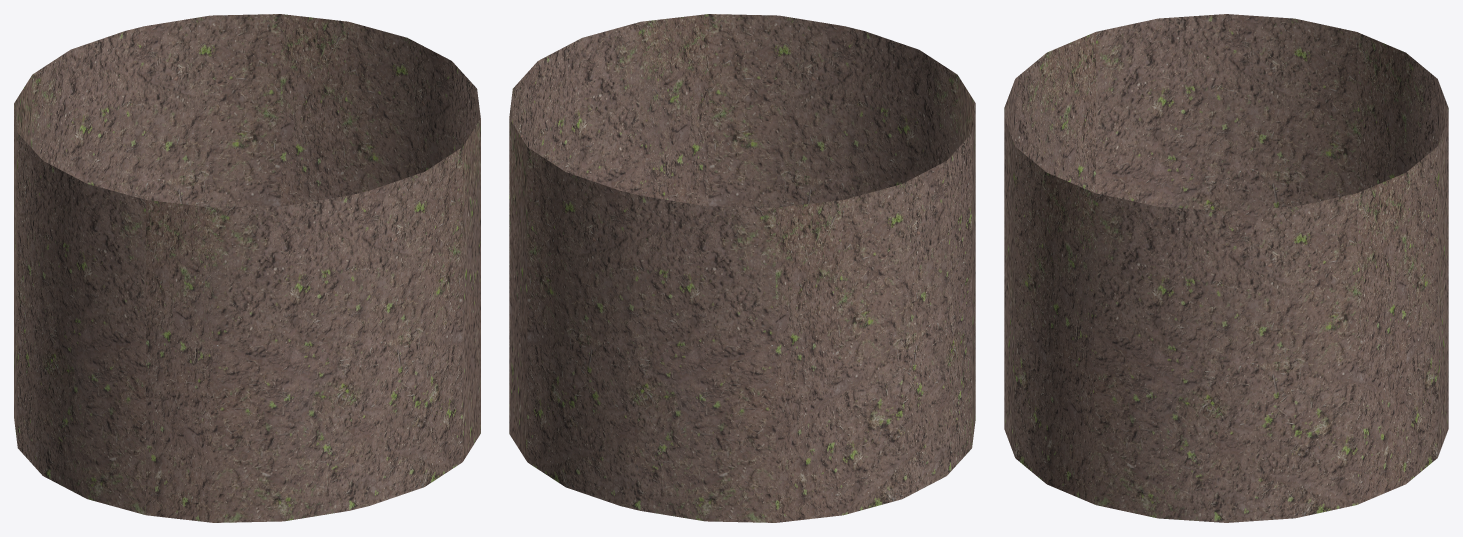
Rendered from SM_Forest_Block01.fbx.
3 views of the same model, side by side, from view 1: azimuth 30°, elevation 25°; view 2: azimuth 150°, elevation 25°; view 3: azimuth 270°, elevation 25° (orthographic).
Visible parts, largest first — view 1: SM_Forest_Block01; view 2: SM_Forest_Block01; view 3: SM_Forest_Block01.
Part boxes in pixels (box(x1,y1,x2,y2)): SM_Forest_Block01: box(14, 14, 480, 522); SM_Forest_Block01: box(509, 14, 975, 522); SM_Forest_Block01: box(1004, 14, 1448, 522).
Size of the model in its own units: 3433 by 2529 by 3267.
